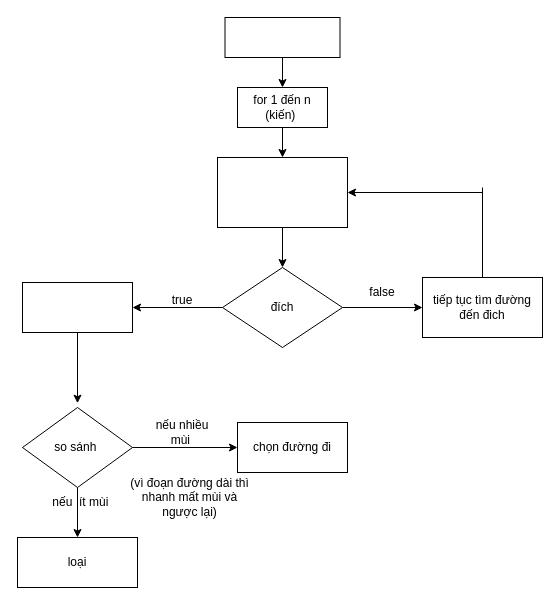
Some shapes in this 560 by 605 pixel diagram are drawn without their labels. Each missing label, with the box of its shape:
cập nhật mùi và quay lại vị trí ban đầu: (22, 282, 132, 332)
foreach n(kiến) tự xây dựng đường đi với các điểm kề đến đích: (216, 156, 348, 228)
khởi tạo (n kiến, mùi kiến ): (224, 16, 340, 58)
